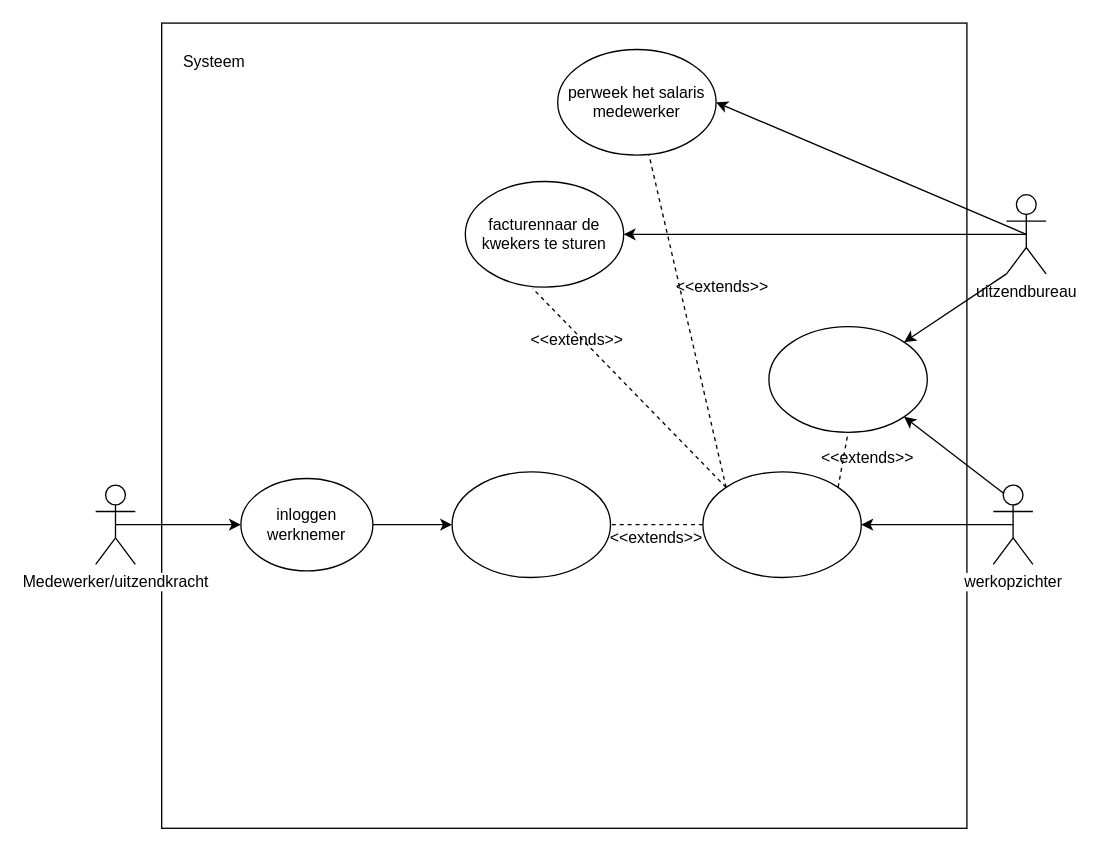
Image size: 1100x851. Some labels were removed from this diagram. The shapes that lost their labels are listed below. From the top down, each one's centre as x and y in pixels, then its label:
At point (847, 378): "overzicht maandelijks".
At point (530, 524): "aanmelden werknemer".
At point (781, 524): "Uurenverantwoording".
